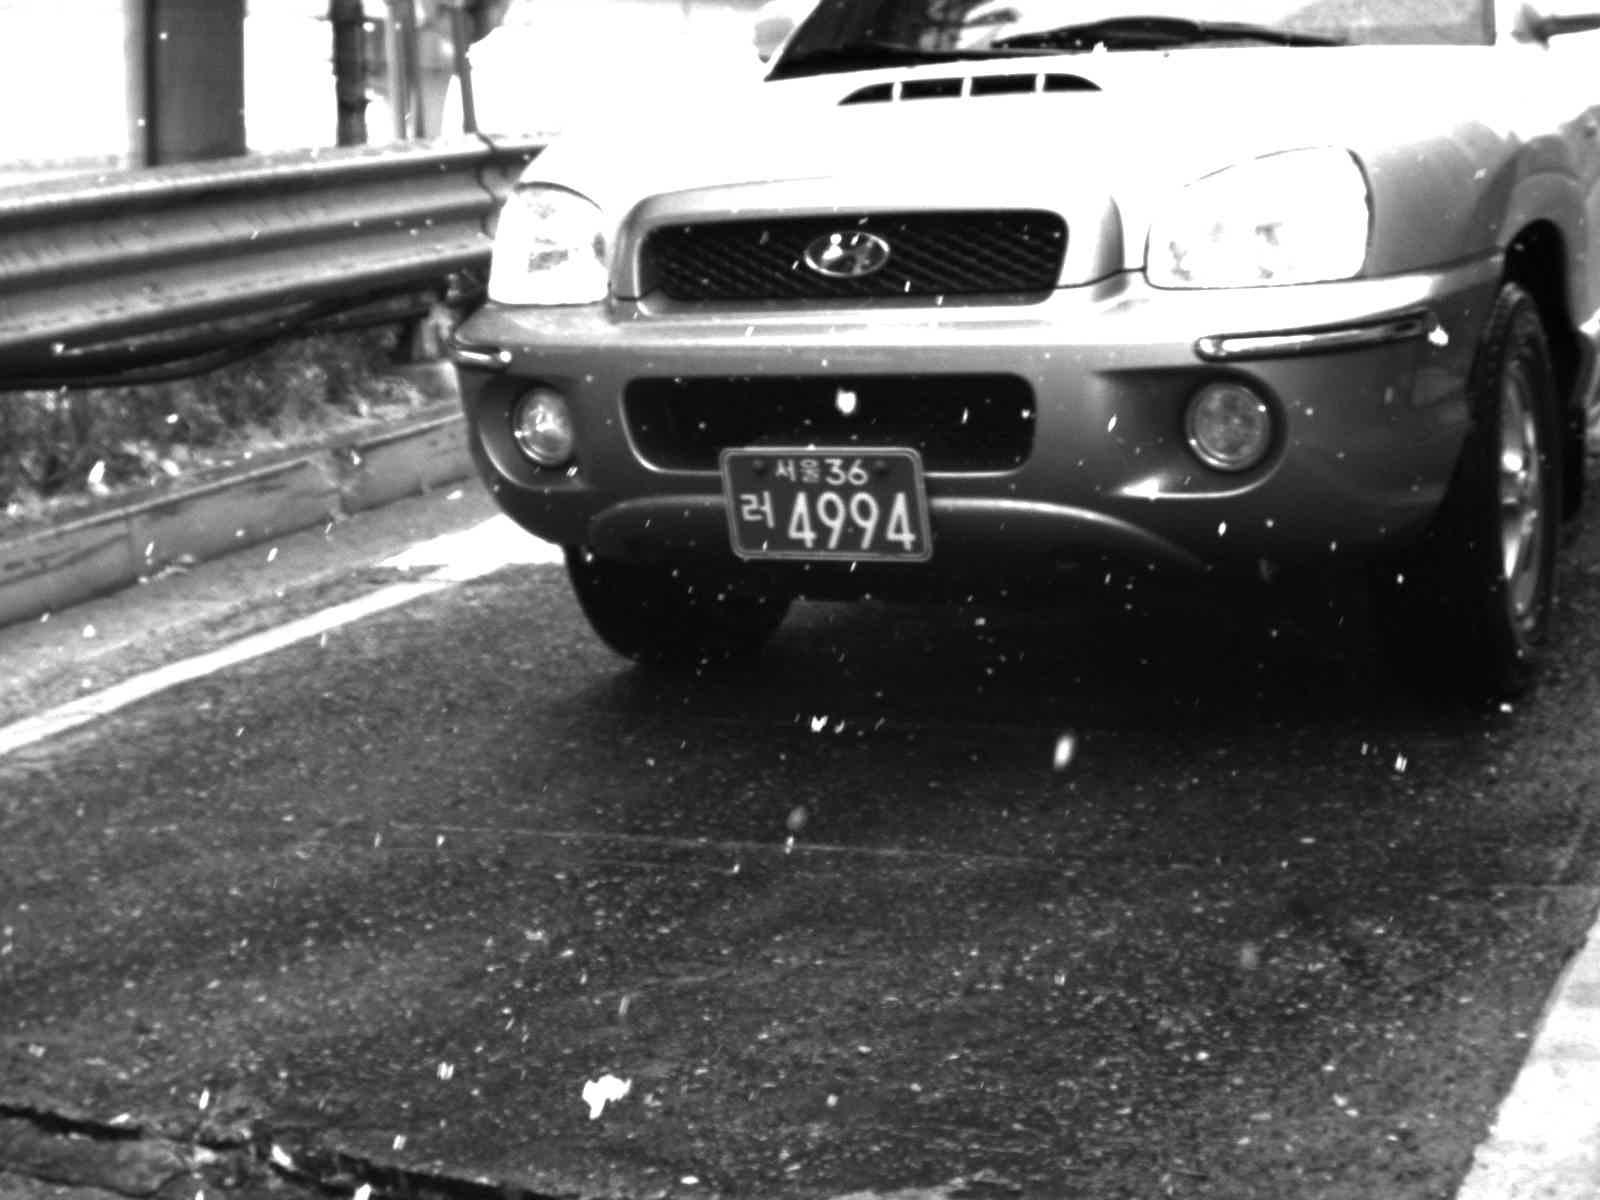P5_서울36러4994: (713, 439, 933, 572)
러: (727, 472, 786, 544)
서울: (772, 447, 830, 489)
